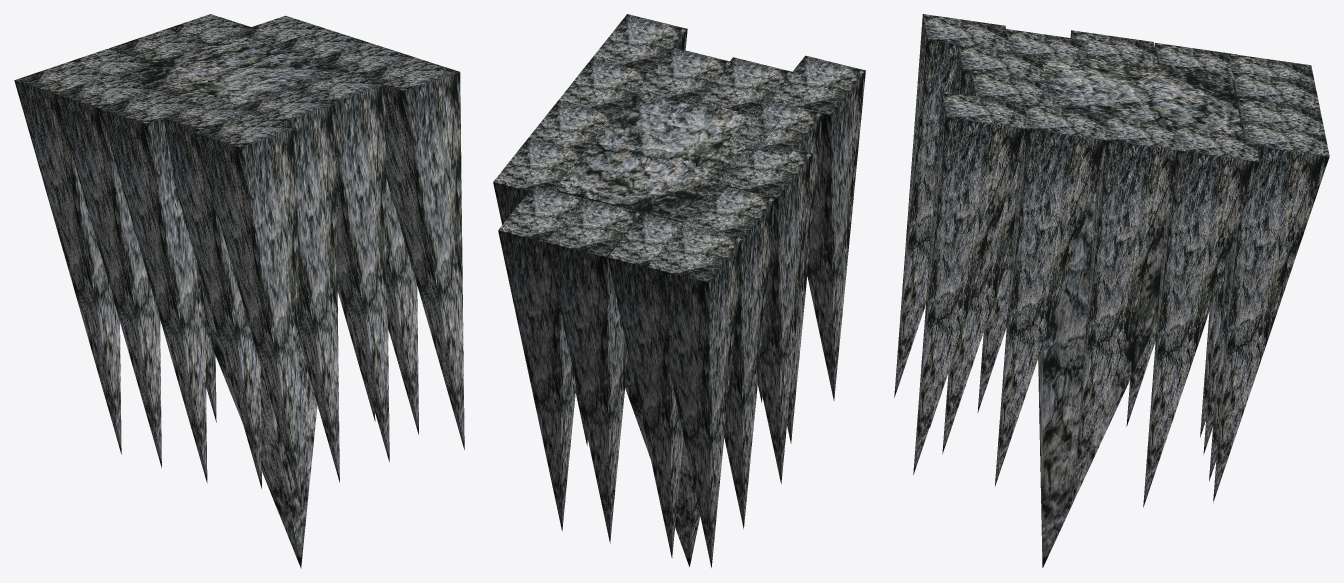
File: stalagmite.fbx
3 views of the same model, side by side, from view 1: azimuth 30°, elevation 25°; view 2: azimuth 150°, elevation 25°; view 3: azimuth 270°, elevation 25° (orthographic). The views are drawn at different scales.
Visible parts, largest first — view 1: Pyramid015; view 2: Pyramid015; view 3: Pyramid015.
Part boxes in pixels (x1=…): Pyramid015: x1=14, y1=14, x2=464, y2=568; Pyramid015: x1=493, y1=14, x2=865, y2=567; Pyramid015: x1=894, y1=14, x2=1329, y2=567.
Size of the model in its own units: 371 by 677 by 528.
Materials: 1 (1 with a texture image).
